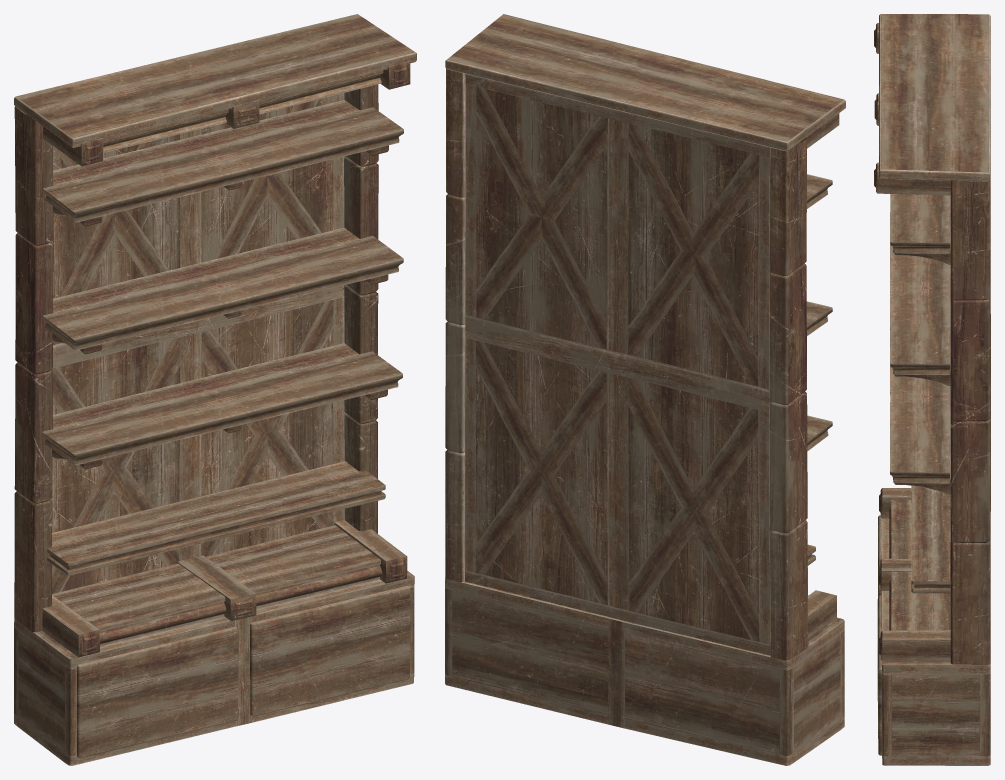
3 renders of one model, left to right at view 1: azimuth 30°, elevation 25°; view 2: azimuth 150°, elevation 25°; view 3: azimuth 270°, elevation 25°, orthographic. The views are drawn at different scales.
Visible parts, largest first — view 1: SM_DR_Bookshelf_04_LOD0; view 2: SM_DR_Bookshelf_04_LOD0; view 3: SM_DR_Bookshelf_04_LOD0.
Boxes of the visible parts, x1,y1,x2,y2 form: SM_DR_Bookshelf_04_LOD0: (14,14,416,765); SM_DR_Bookshelf_04_LOD0: (445,14,845,765); SM_DR_Bookshelf_04_LOD0: (874,14,990,765).
Size of the model in its own units: 2.43 by 4.24 by 0.7526.
1 material, 1 textured.
